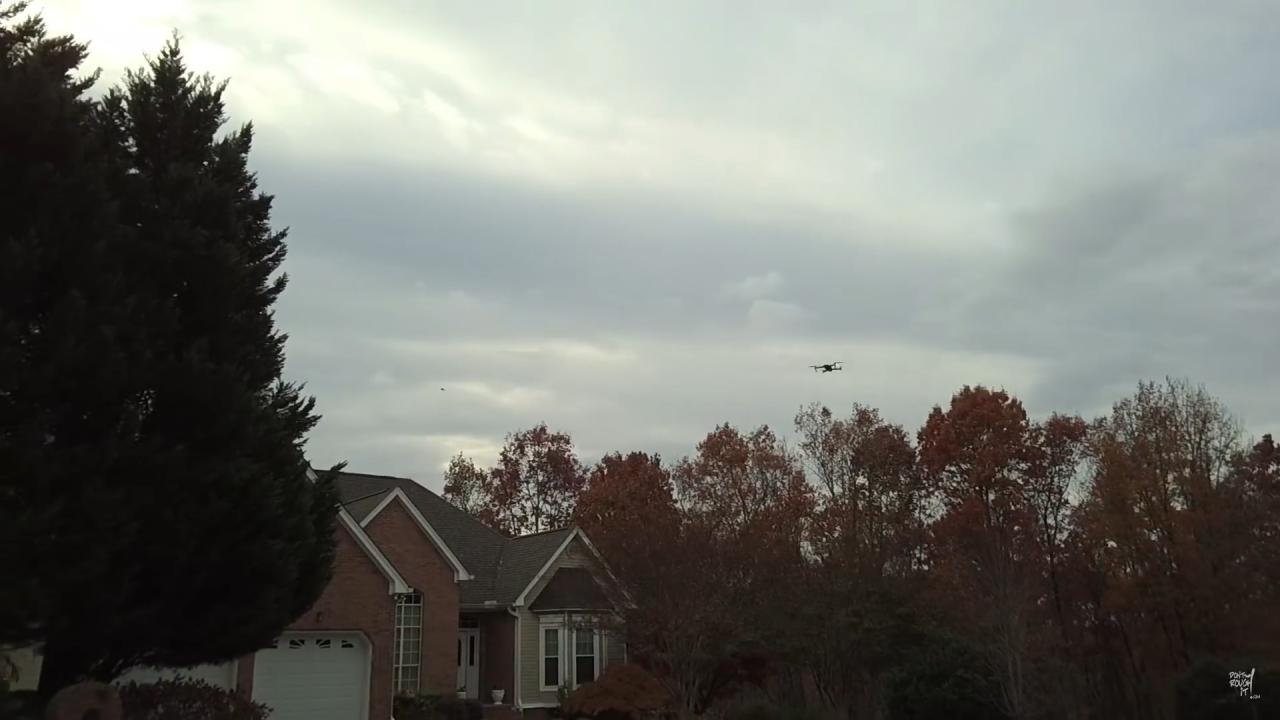Drone: (801, 351, 852, 385)
